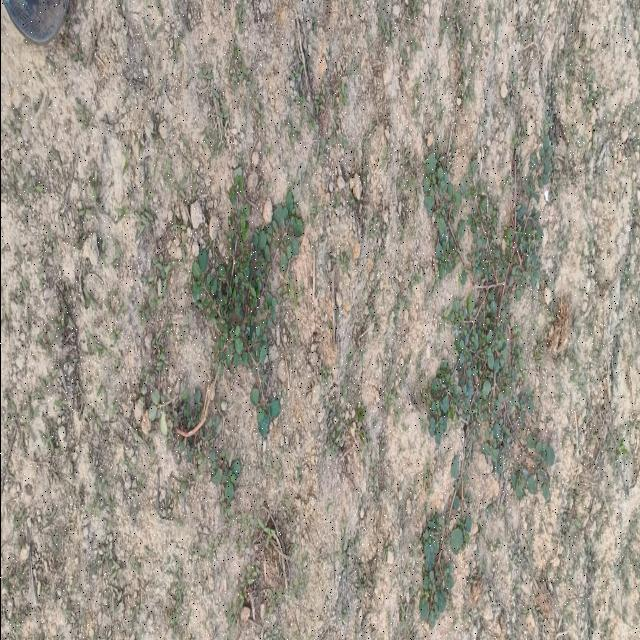plant: (190, 166, 303, 436)
